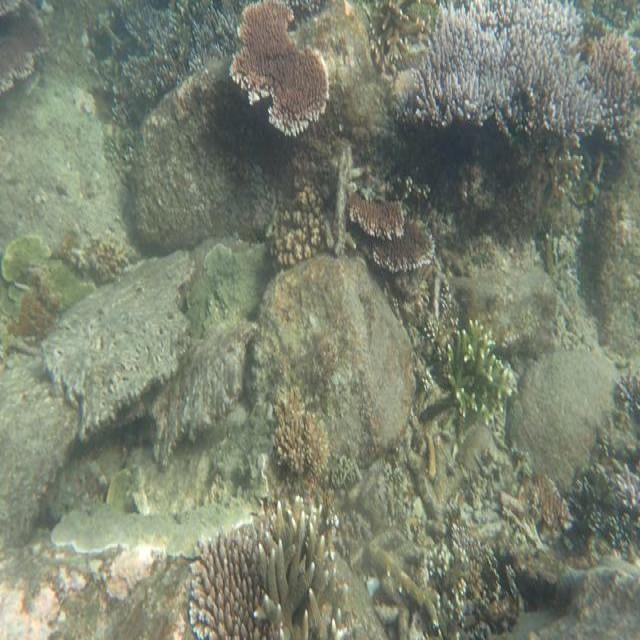reefs: (416, 1, 638, 145), (85, 3, 237, 110), (254, 494, 351, 638), (230, 2, 329, 134), (189, 526, 275, 639), (446, 317, 512, 446), (348, 195, 435, 272), (277, 400, 330, 488), (273, 183, 325, 265)
sea-floor: (247, 255, 417, 466)
